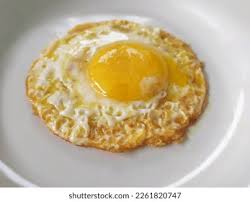Telur ceplok: (25, 20, 209, 155)
